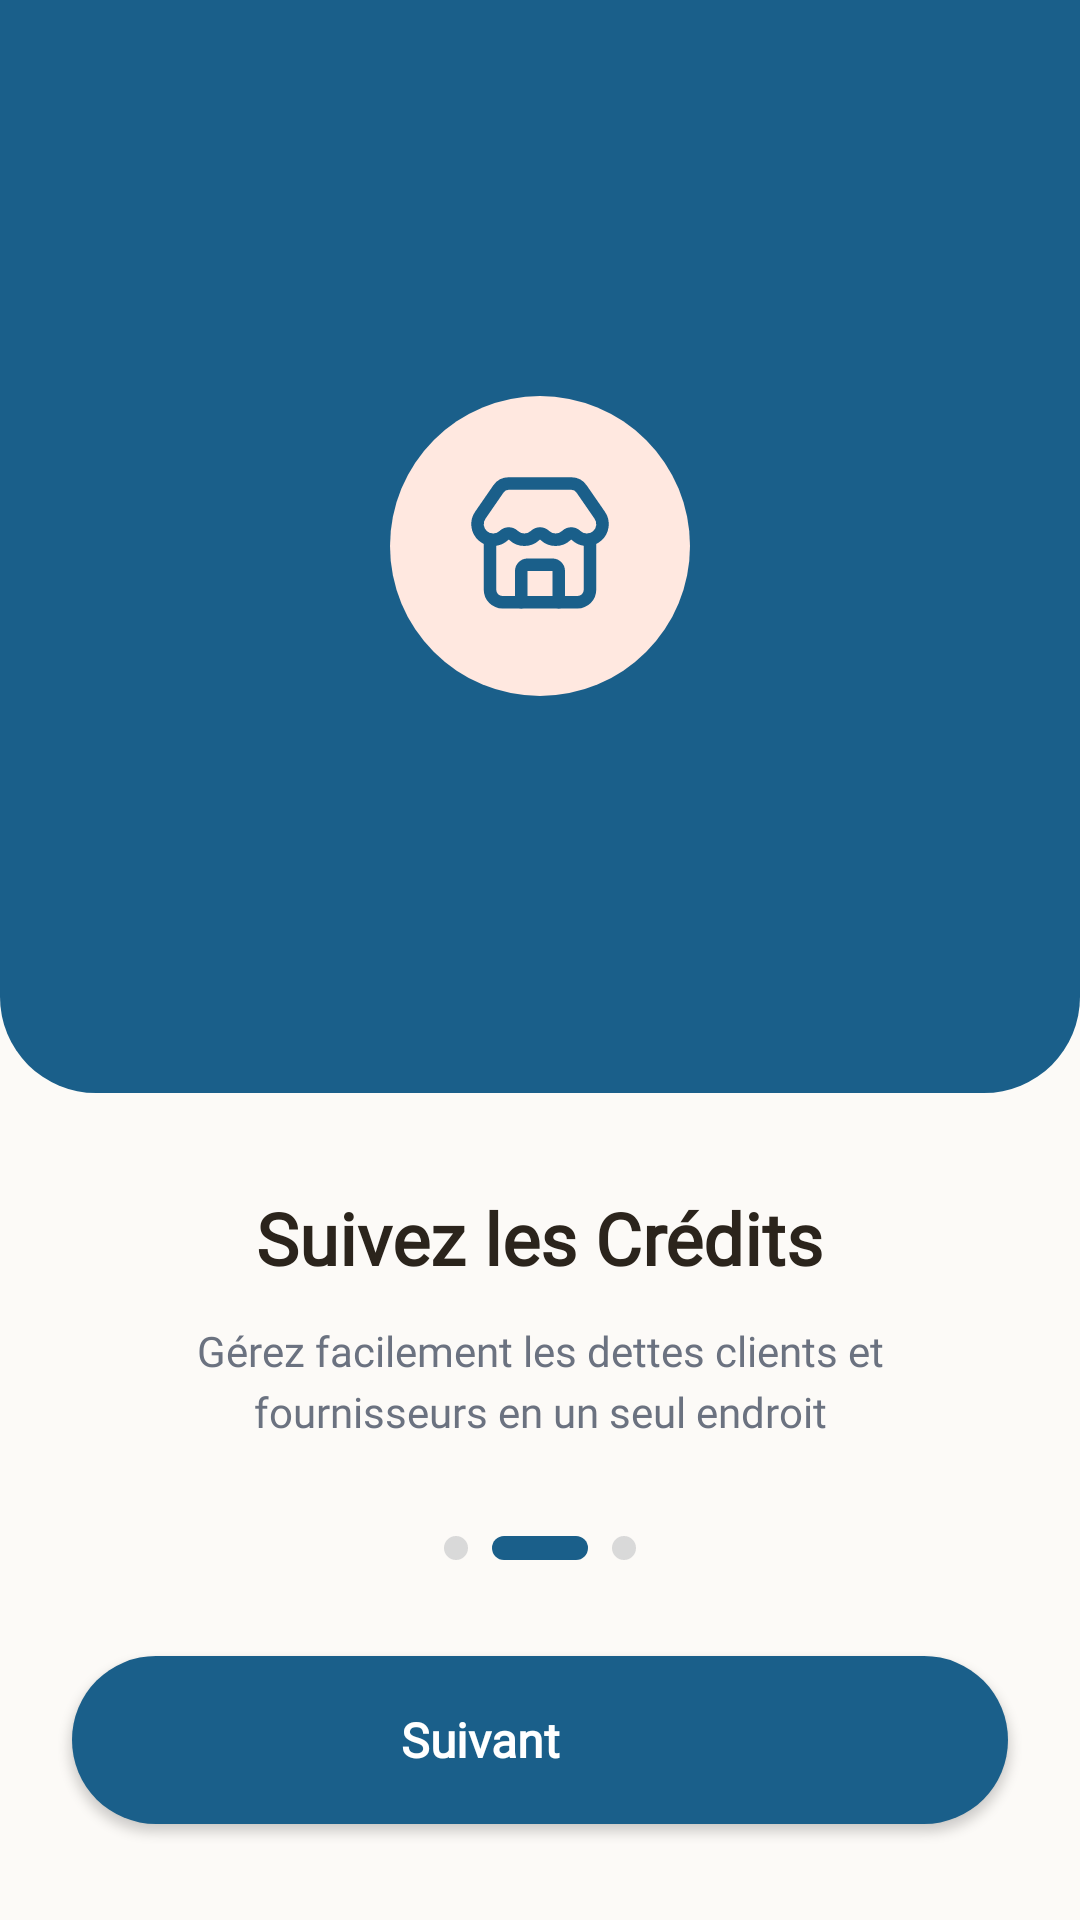

Icons on this 1080*1920 Android screen, each with its box as (x1, y1, x2, y2):
indicator: (492, 1536, 588, 1560)
store: (471, 477, 609, 609)
